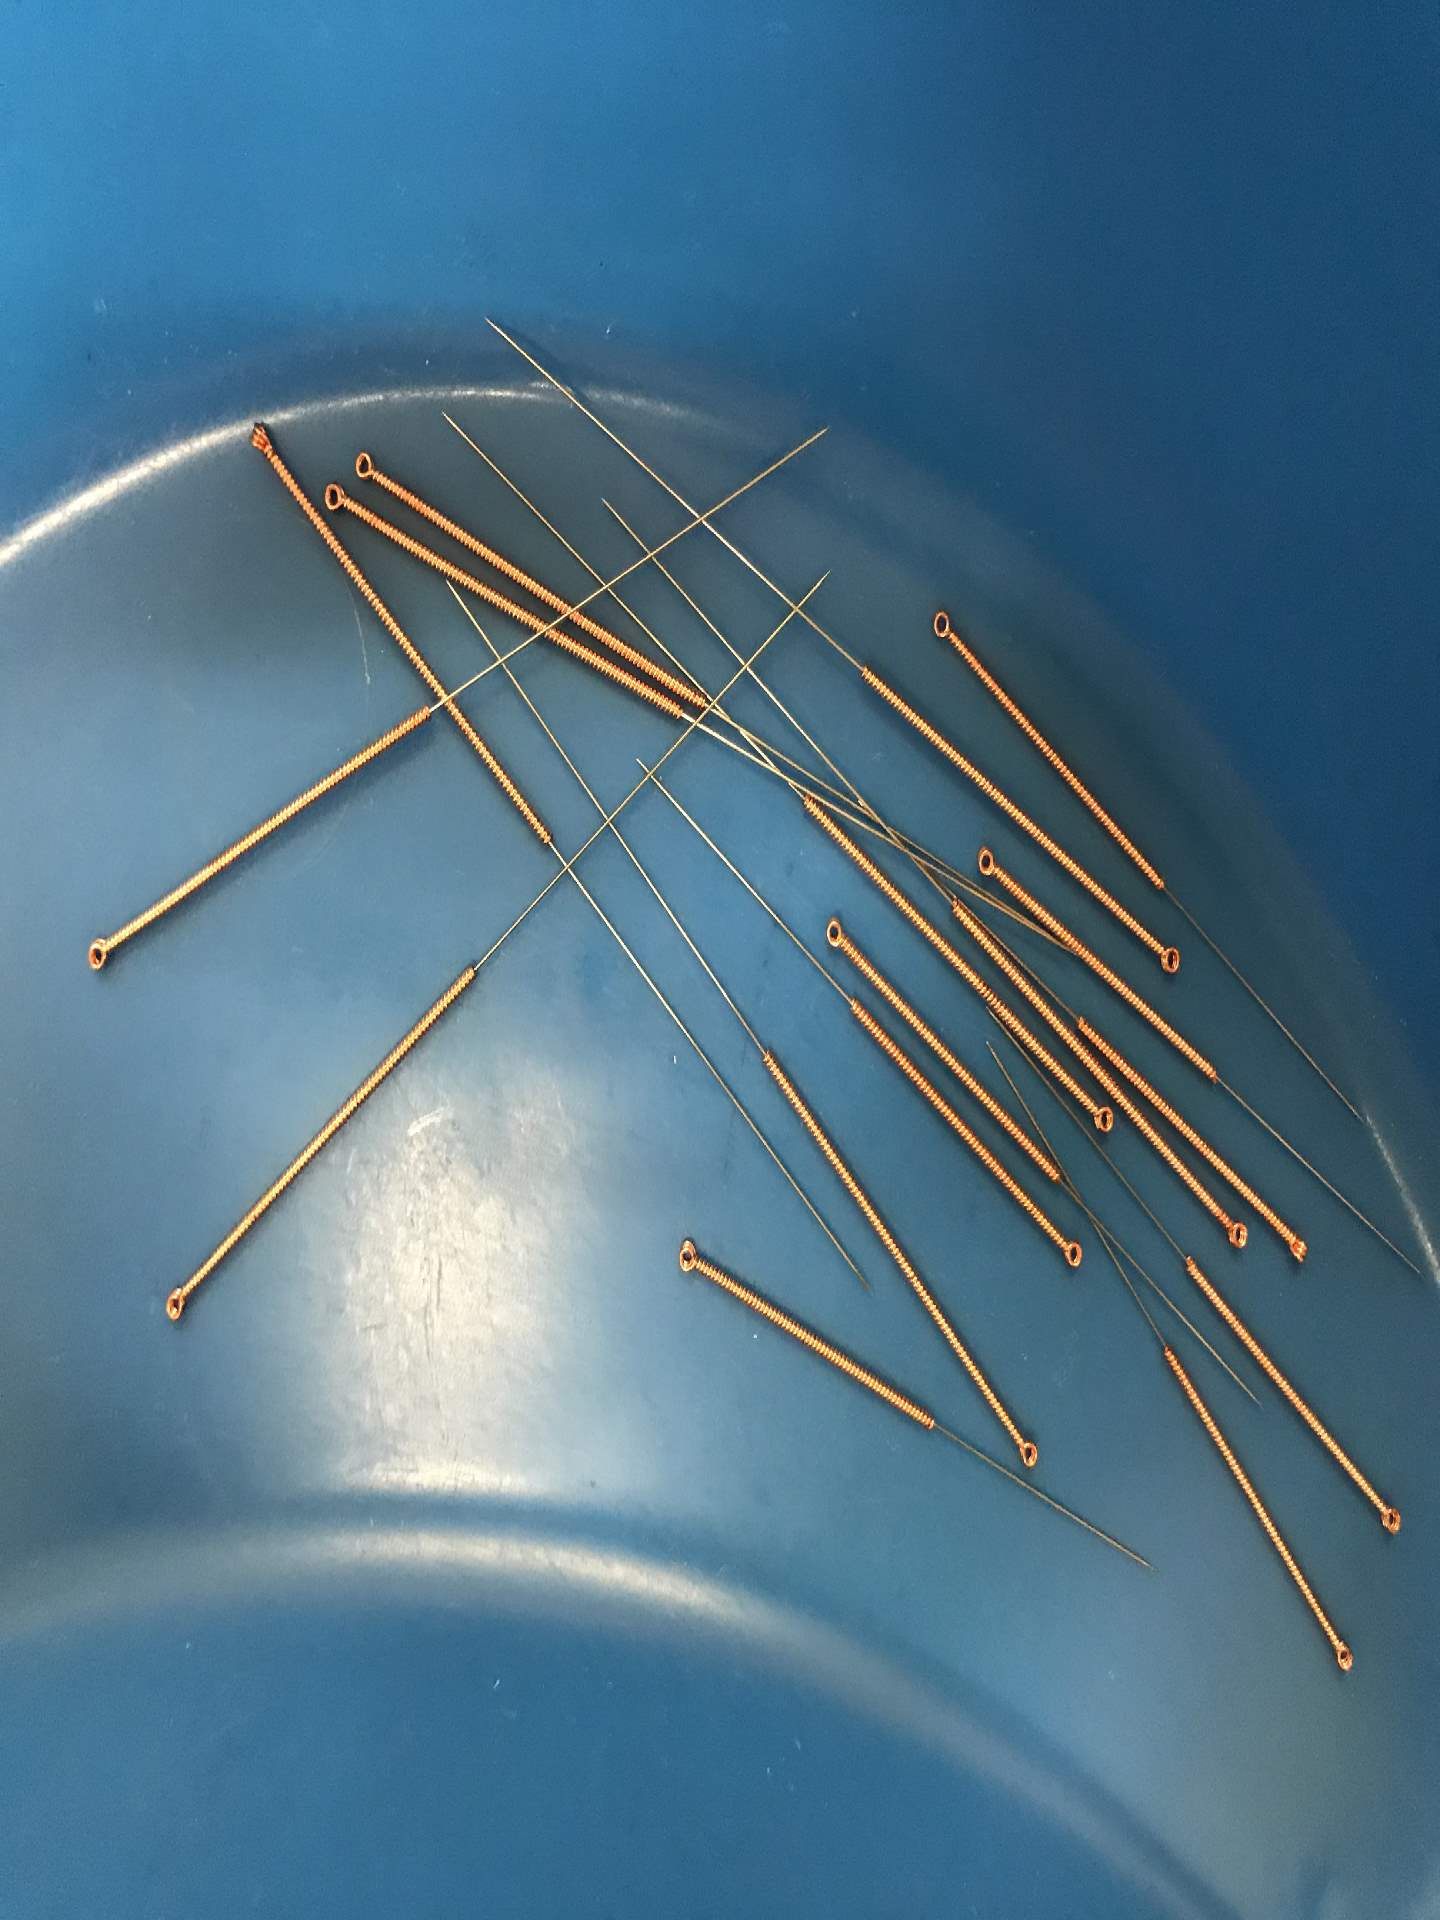needle: (76, 921, 133, 980), (150, 1271, 203, 1332), (663, 1231, 714, 1285), (917, 597, 967, 653), (1144, 933, 1192, 984), (239, 408, 281, 466), (1367, 1494, 1411, 1544), (1050, 1228, 1091, 1277), (1277, 1225, 1317, 1274), (1322, 1631, 1363, 1681), (1007, 1427, 1047, 1476), (1218, 1211, 1257, 1259), (346, 444, 390, 487), (967, 841, 1007, 886), (817, 910, 855, 958), (1082, 1096, 1119, 1141), (318, 479, 360, 517)
